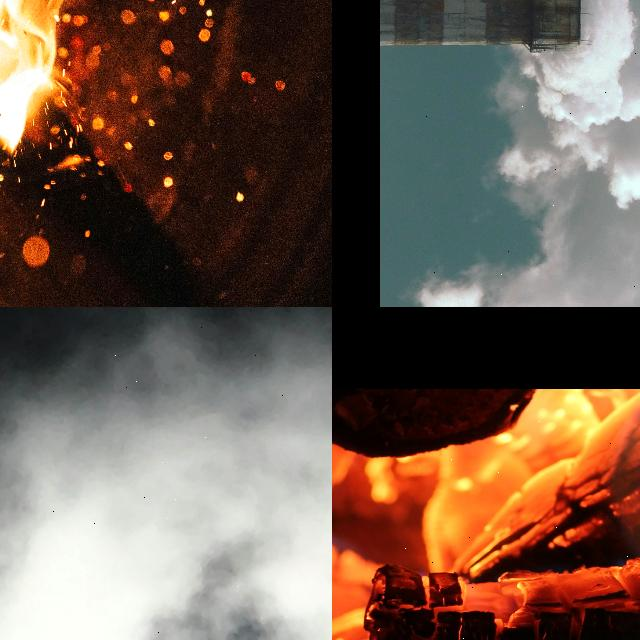fire: (365, 397, 640, 640)
smoke: (0, 323, 332, 640), (420, 0, 640, 307)
